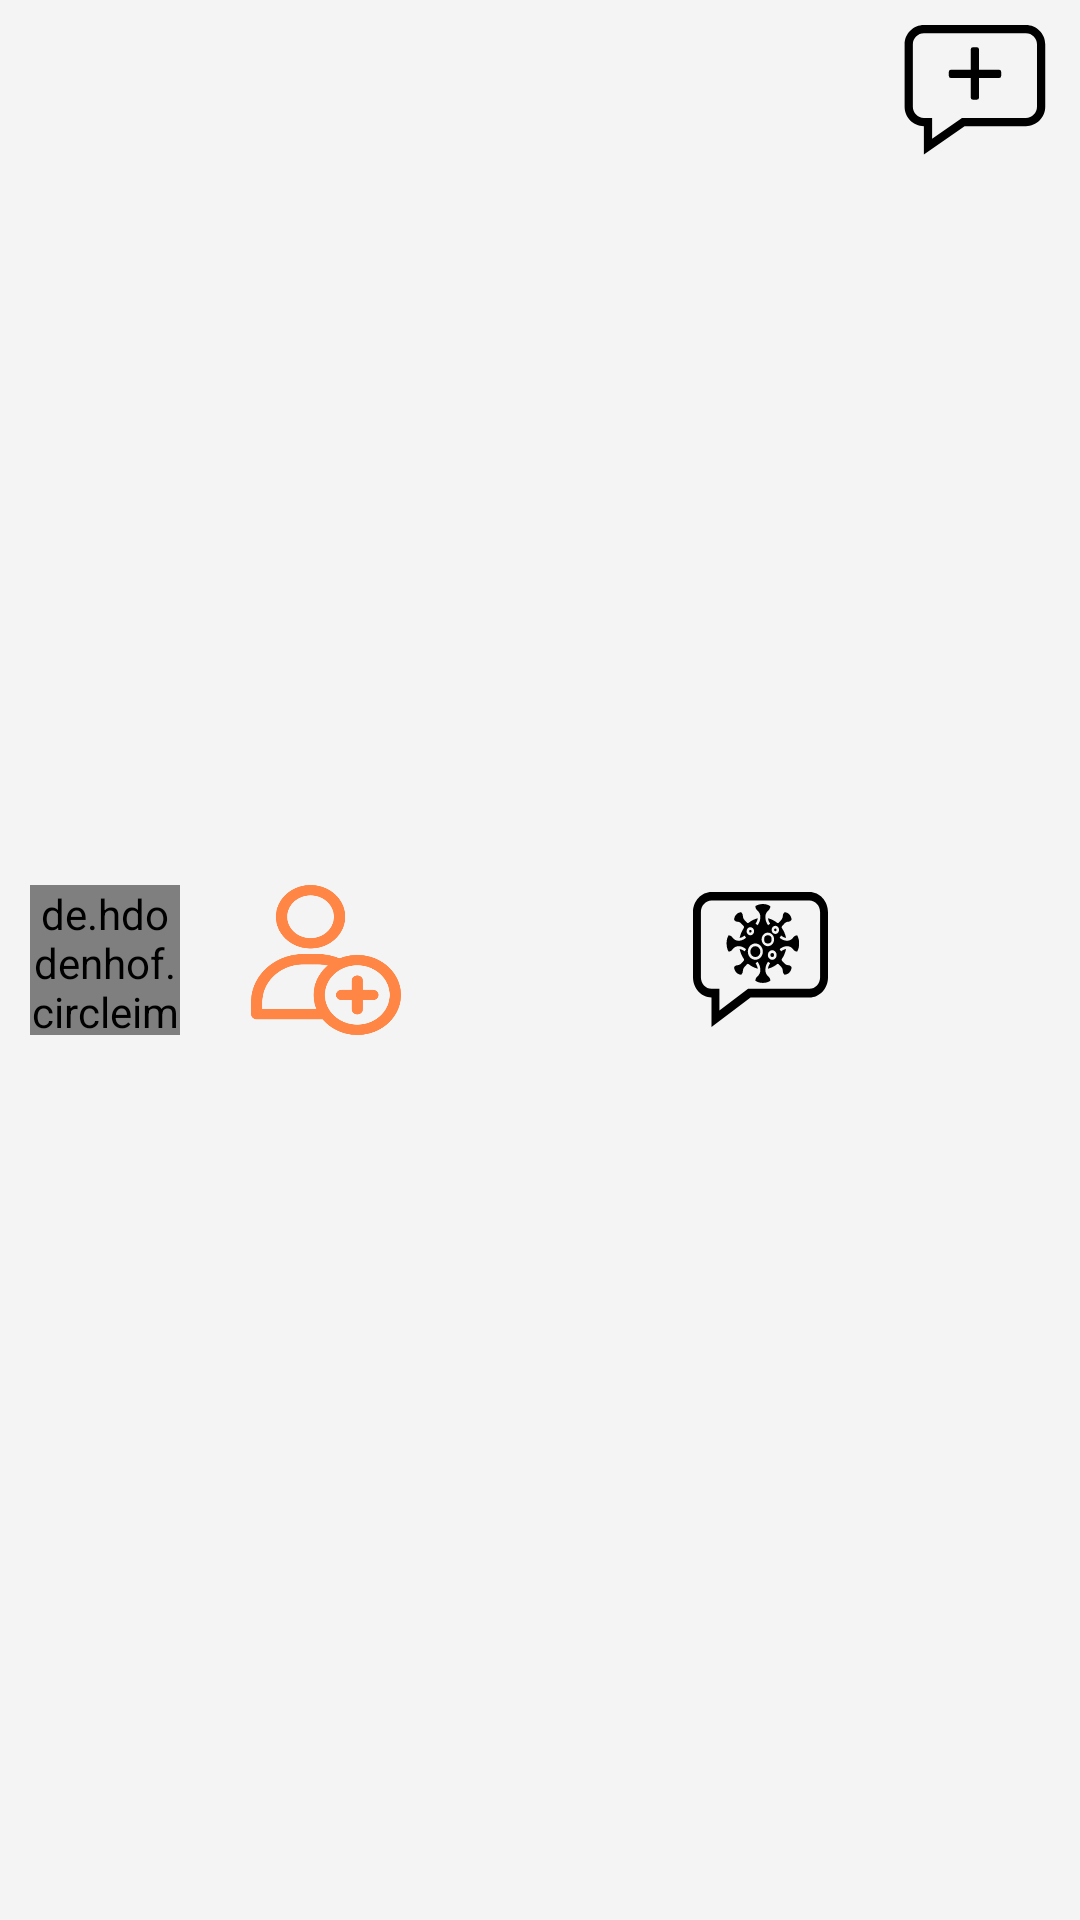

Icons on this 1080px x 1920px Android screen, each with its box as (x1, y1, x2, y2):
add chat: (904, 25, 1046, 155)
add user: (251, 885, 401, 1035)
